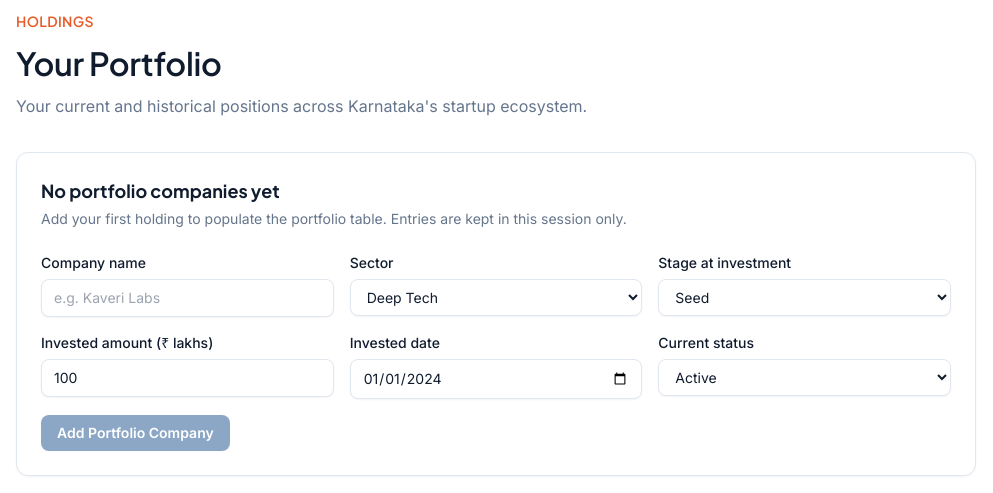
it: PortfolioSection add-company mutation (Req 21.3, 21.4) › shows the empty-state form, then grows the table when a company is added
This screenshot has width=993, height=493.
Expected: the heading "No portfolio companies yet" is shown, [41, 179, 280, 202]
Type "Kaveri Labs" into the field labelled "Company name" at (187, 298), box [41, 279, 334, 317]
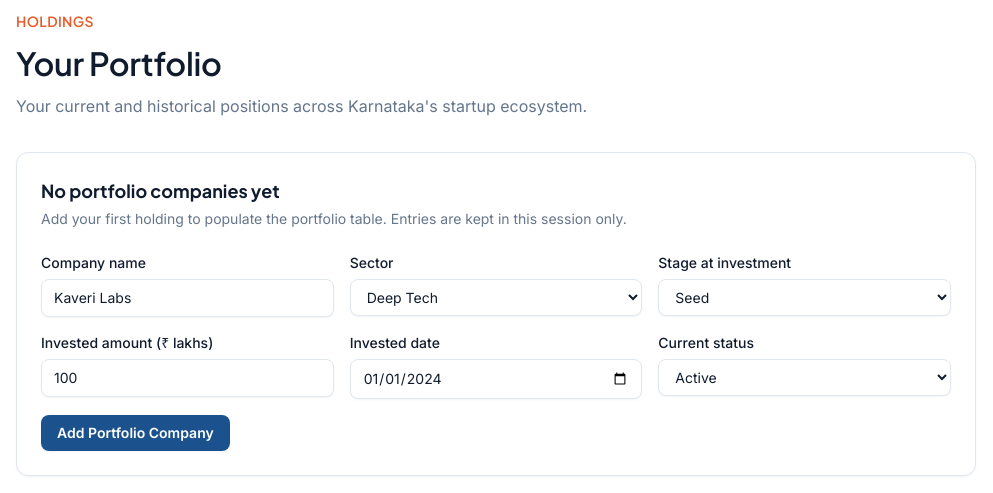
Click the button "Add Portfolio Company" at (135, 433), box [41, 415, 230, 451]
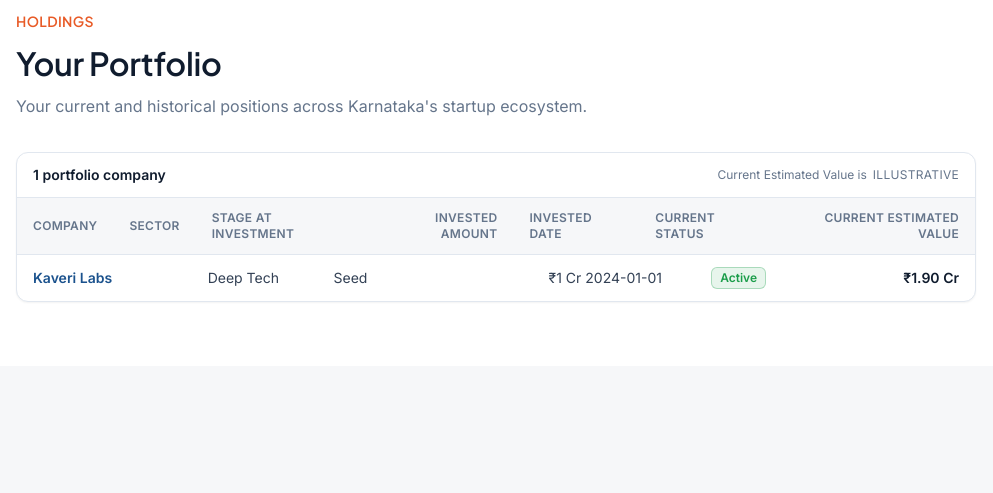
Expected: the button "Kaveri Labs" is shown, [33, 268, 204, 288]
Expected: the text "1 portfolio company" is shown, [33, 165, 166, 185]
